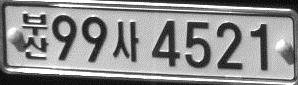1: (248, 23, 275, 71)
2: (216, 21, 243, 69)
4: (151, 20, 181, 67)
5: (185, 20, 211, 68)
9: (80, 15, 108, 63), (51, 13, 77, 61)
부산_V: (20, 12, 49, 60)
사: (112, 20, 139, 62)
